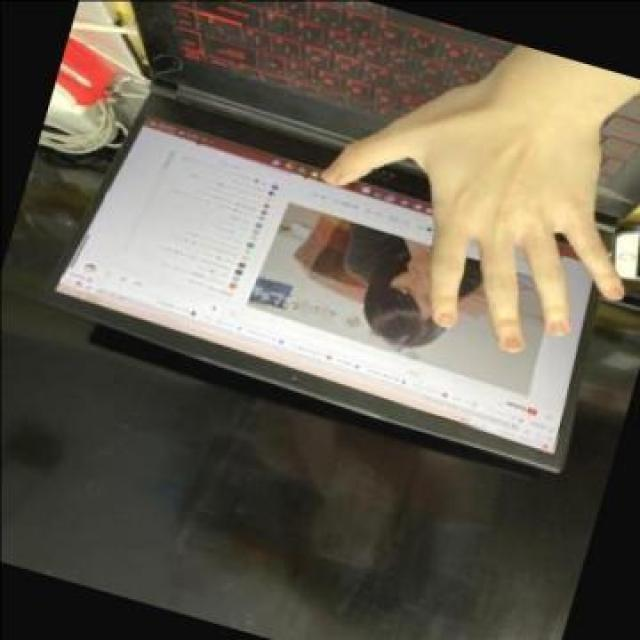without_gloves: (263, 18, 640, 402)
